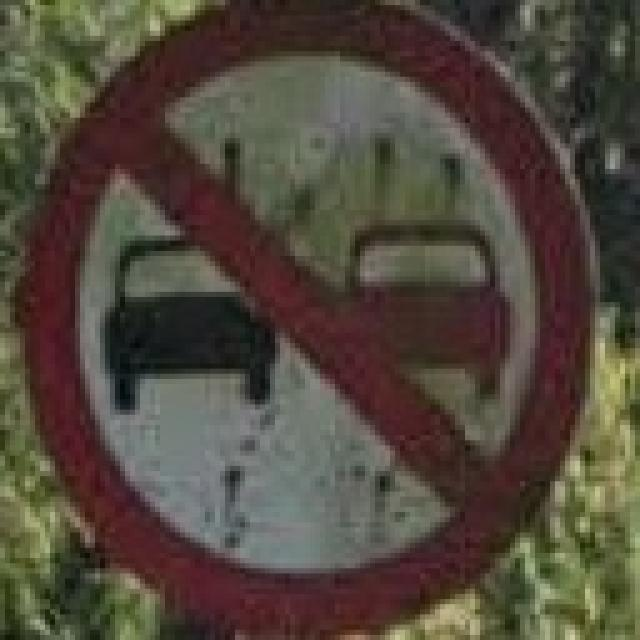Don-t-Overtracking: (19, 0, 605, 640)
